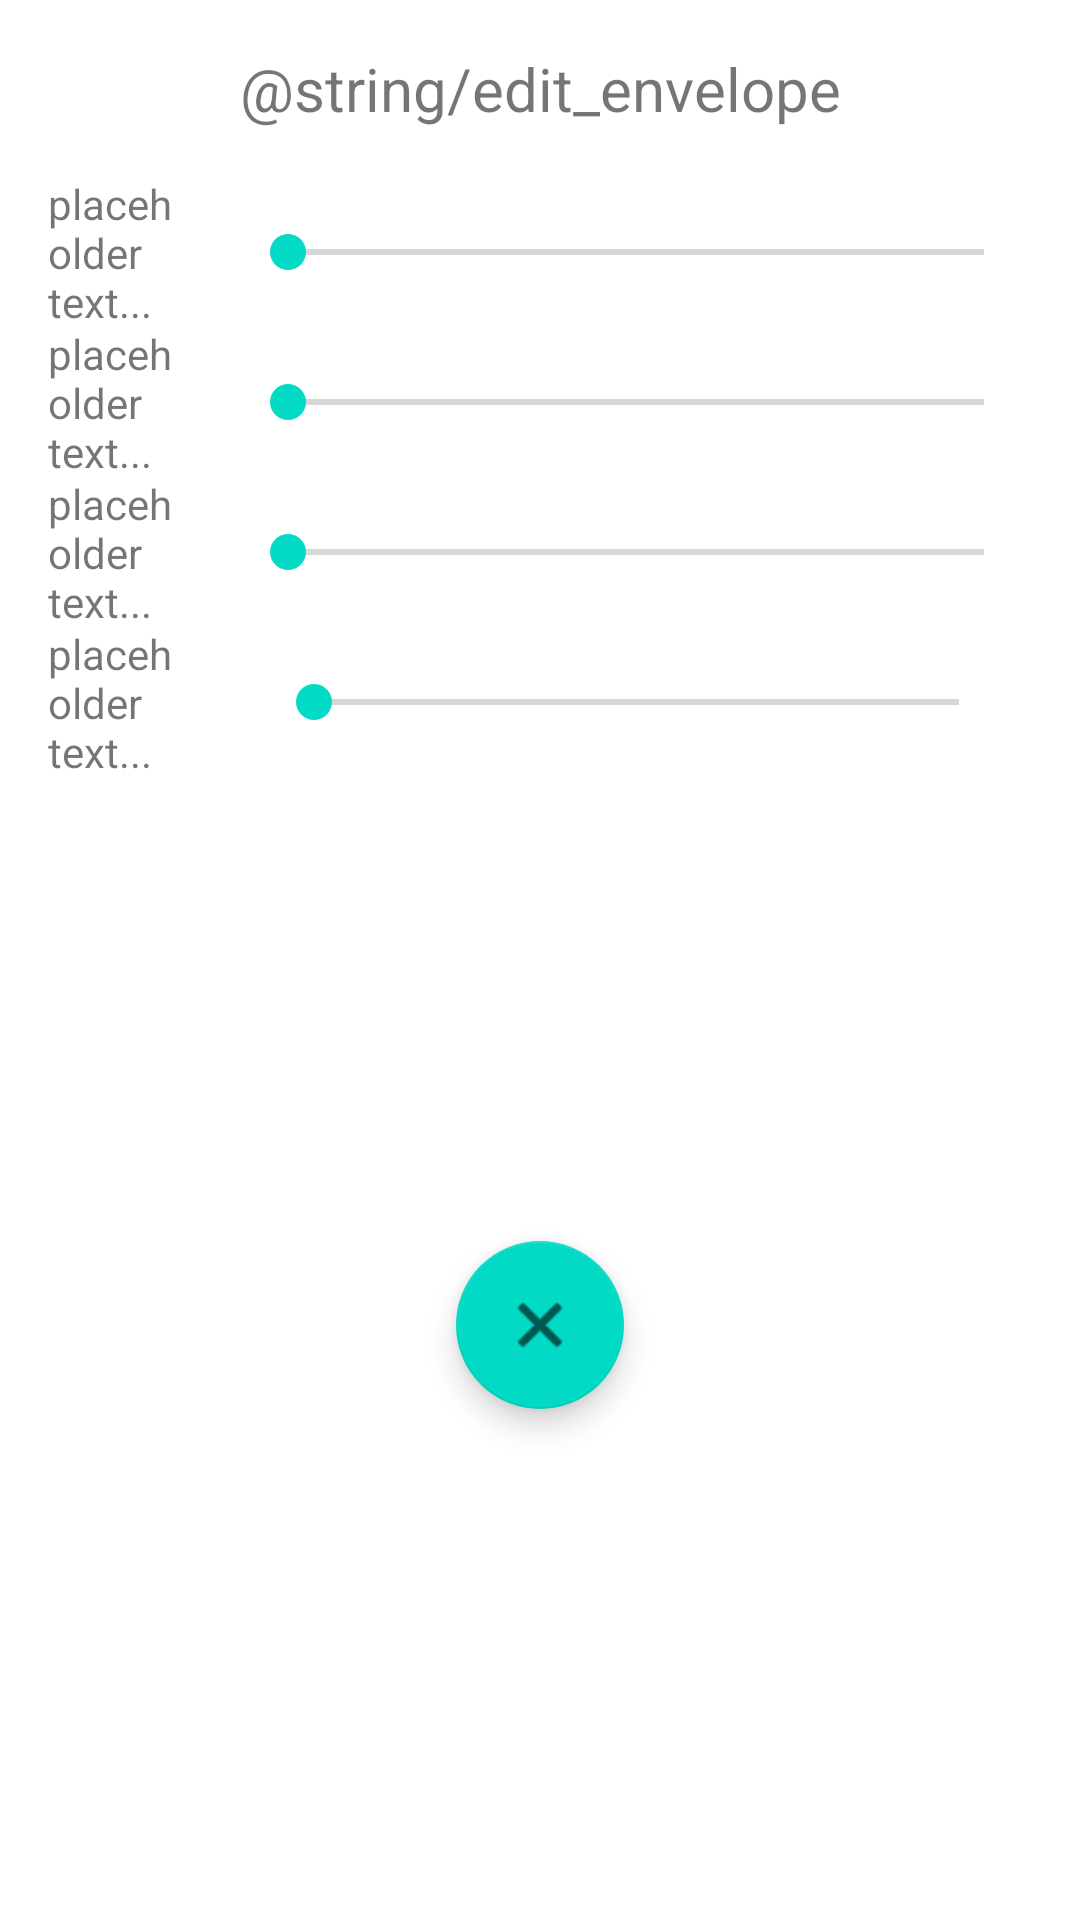

Named icons in this screenshot (1080*1920) and their centers, [x,y]:
close clear cancel: [540,1325]
